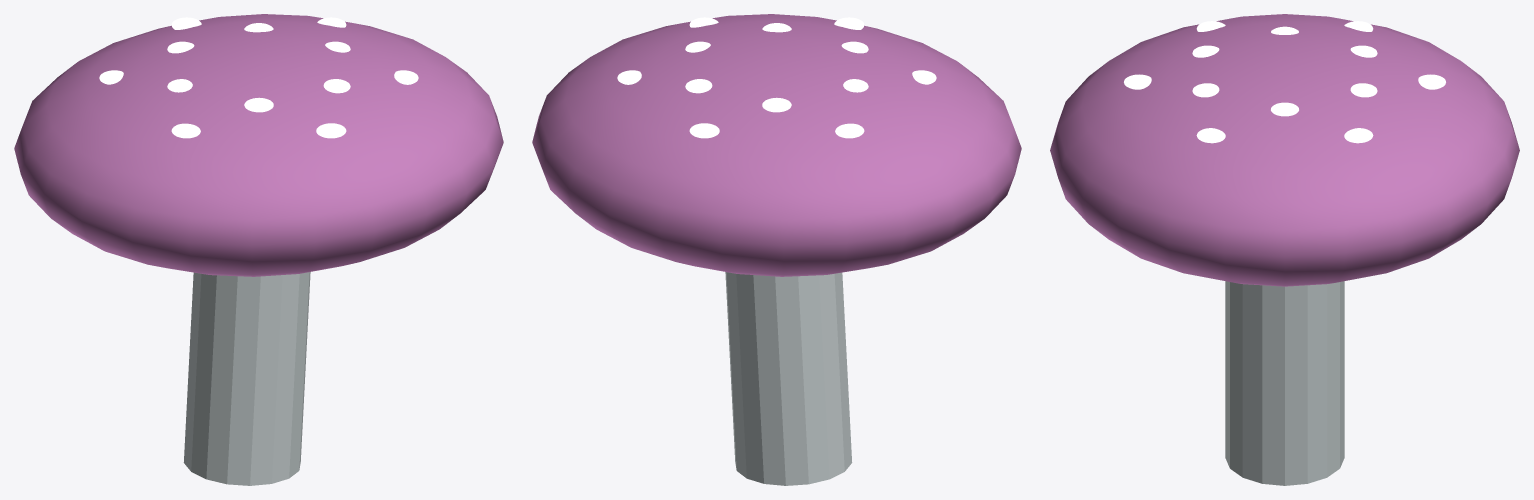
The model's file is mushroom-giant.glb.
3 renders of one model, left to right at view 1: azimuth 30°, elevation 25°; view 2: azimuth 150°, elevation 25°; view 3: azimuth 270°, elevation 25°, orthographic.
Visible parts, largest first — view 1: Mushroom crown.001, Mushroom stalk.001; view 2: Mushroom crown.001, Mushroom stalk.001; view 3: Mushroom crown.001, Mushroom stalk.001.
Boxes of the visible parts, x1=… form: Mushroom crown.001: x1=14, y1=14, x2=503, y2=276; Mushroom stalk.001: x1=183, y1=272, x2=310, y2=485; Mushroom crown.001: x1=532, y1=14, x2=1021, y2=276; Mushroom stalk.001: x1=725, y1=272, x2=852, y2=485; Mushroom crown.001: x1=1050, y1=14, x2=1519, y2=286; Mushroom stalk.001: x1=1225, y1=281, x2=1344, y2=485.
Size of the model in its own units: 3.1 by 2.76 by 2.9.
